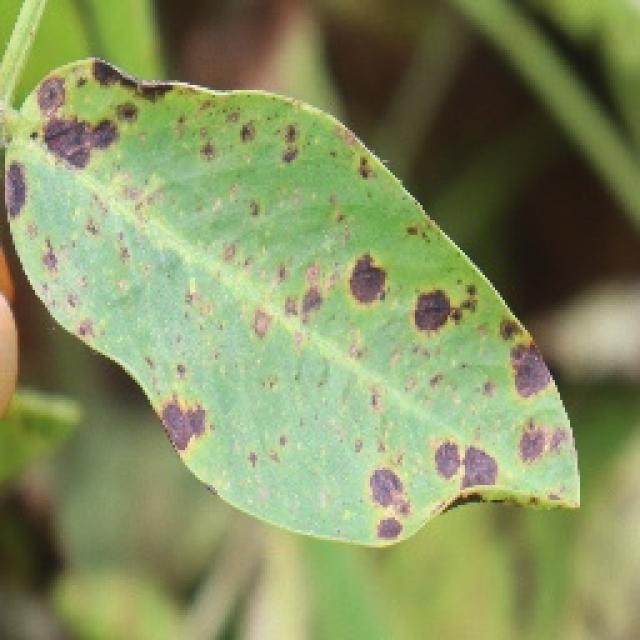Yellowish: (0, 56, 599, 540)
